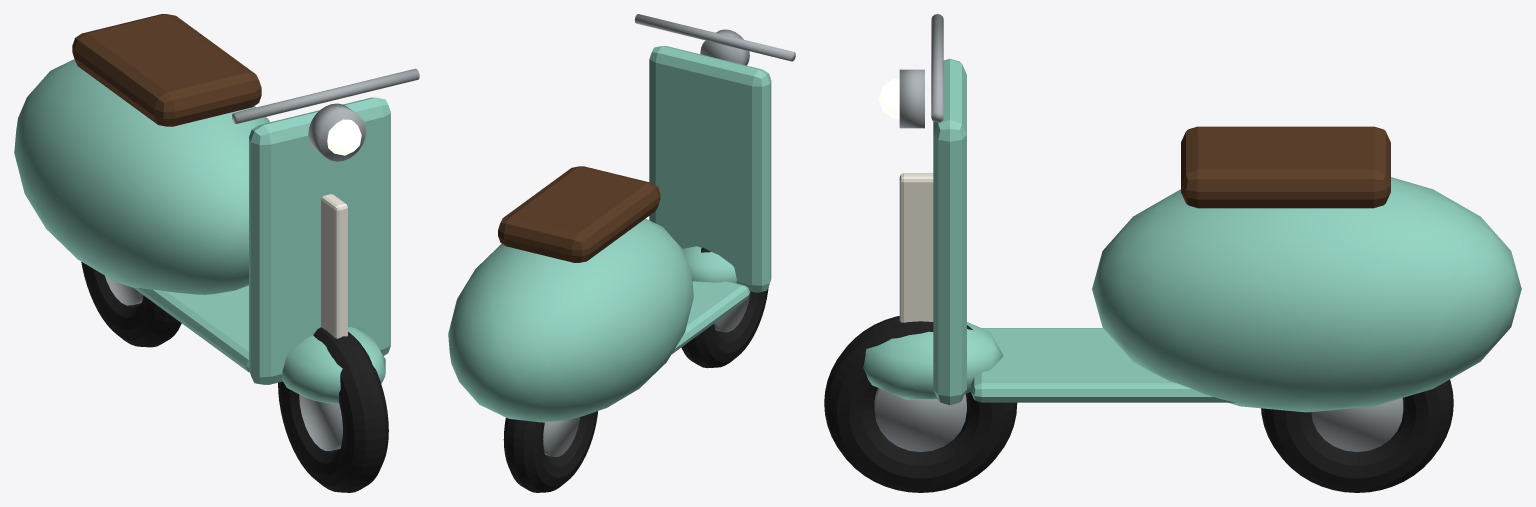
File: vespa.glb
3 renders of one model, left to right at view 1: azimuth 30°, elevation 25°; view 2: azimuth 150°, elevation 25°; view 3: azimuth 270°, elevation 25°, orthographic. The views are drawn at different scales.
Visible parts, largest first — view 1: Icosphere, Cube.001, Cube.002, Torus.001, Cube, Cube.003, Icosphere.001, Torus.002, Cylinder, Cylinder.002, Cylinder.001, Icosphere.002 (+1 smaller); view 2: Icosphere, Cube.001, Cube.002, Torus.002, Torus.001, Cube, Cylinder, Icosphere.001, Cylinder.003, Cylinder.001, Cylinder.002; view 3: Icosphere, Cube.002, Torus.001, Cube, Cube.001, Torus.002, Icosphere.001, Cube.003, Cylinder.002, Cylinder.003, Cylinder.001, Cylinder.
Part boxes in pixels (x1,y1,x2,y2): Icosphere: [14, 59, 269, 294]; Cube.001: [249, 97, 390, 384]; Cube.002: [72, 14, 261, 126]; Torus.001: [278, 327, 388, 492]; Cube: [133, 285, 249, 372]; Cube.003: [321, 194, 347, 338]; Icosphere.001: [282, 327, 385, 404]; Torus.002: [81, 262, 181, 347]; Cylinder: [232, 68, 419, 123]; Cylinder.002: [299, 394, 342, 450]; Cylinder.001: [308, 103, 365, 161]; Icosphere.002: [327, 119, 361, 155]; Icosphere: [448, 218, 693, 422]; Cube.001: [649, 46, 771, 292]; Cube.002: [498, 166, 660, 262]; Torus.002: [503, 411, 597, 492]; Torus.001: [681, 247, 768, 368]; Cube: [671, 281, 749, 354]; Cylinder: [634, 14, 795, 61]; Icosphere.001: [682, 246, 736, 283]; Cylinder.003: [543, 417, 579, 456]; Cylinder.001: [700, 29, 749, 65]; Cylinder.002: [714, 291, 750, 332]; Icosphere: [1092, 177, 1521, 412]; Cube.002: [1181, 126, 1390, 208]; Torus.001: [824, 316, 1017, 492]; Cube: [971, 328, 1235, 402]; Cube.001: [933, 58, 966, 405]; Torus.002: [1261, 379, 1453, 492]; Icosphere.001: [863, 322, 1003, 399]; Cube.003: [899, 173, 933, 322]; Cylinder.002: [874, 388, 966, 451]; Cylinder.003: [1311, 398, 1403, 451]; Cylinder.001: [899, 69, 924, 128]; Cylinder: [931, 14, 943, 122].
Size of the model in its own units: 0.64 by 1.13 by 1.66.
